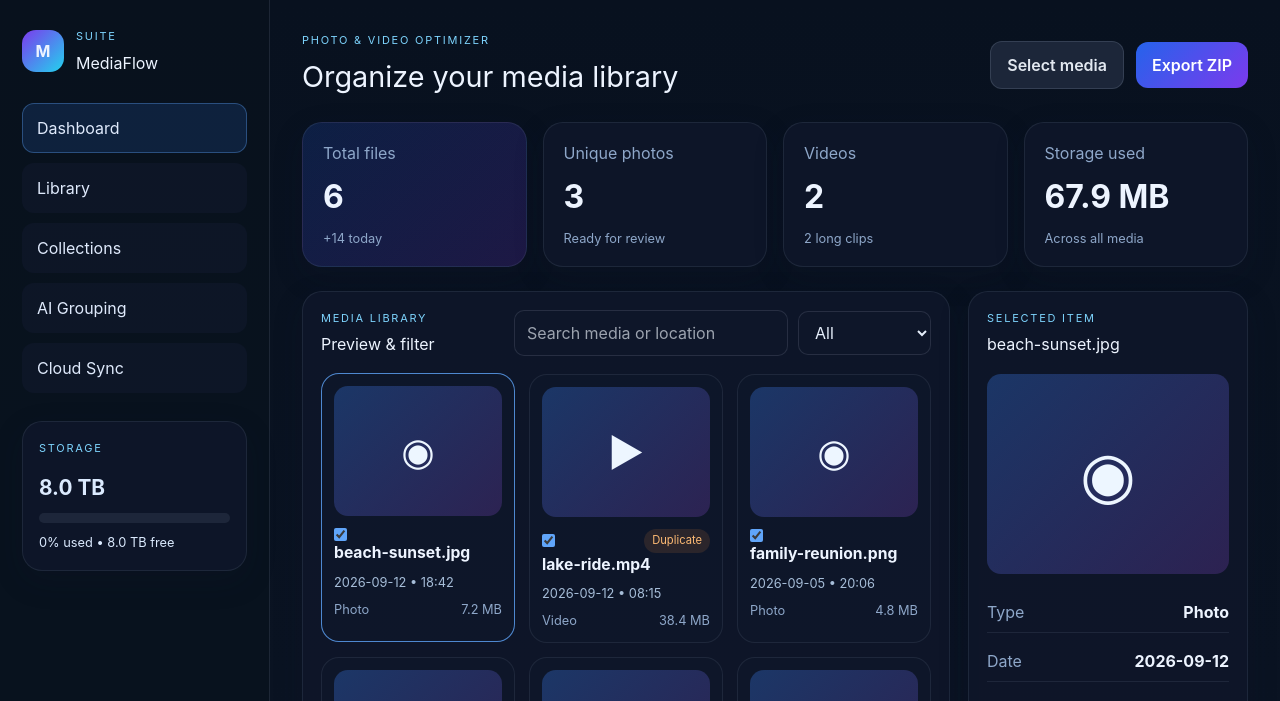
it: App › filters media through the gallery search
The image size is (1280, 701).
Type "Tokyo" into the field with placeholder "Search media or location". click: (651, 333)
box: [514, 310, 788, 356]
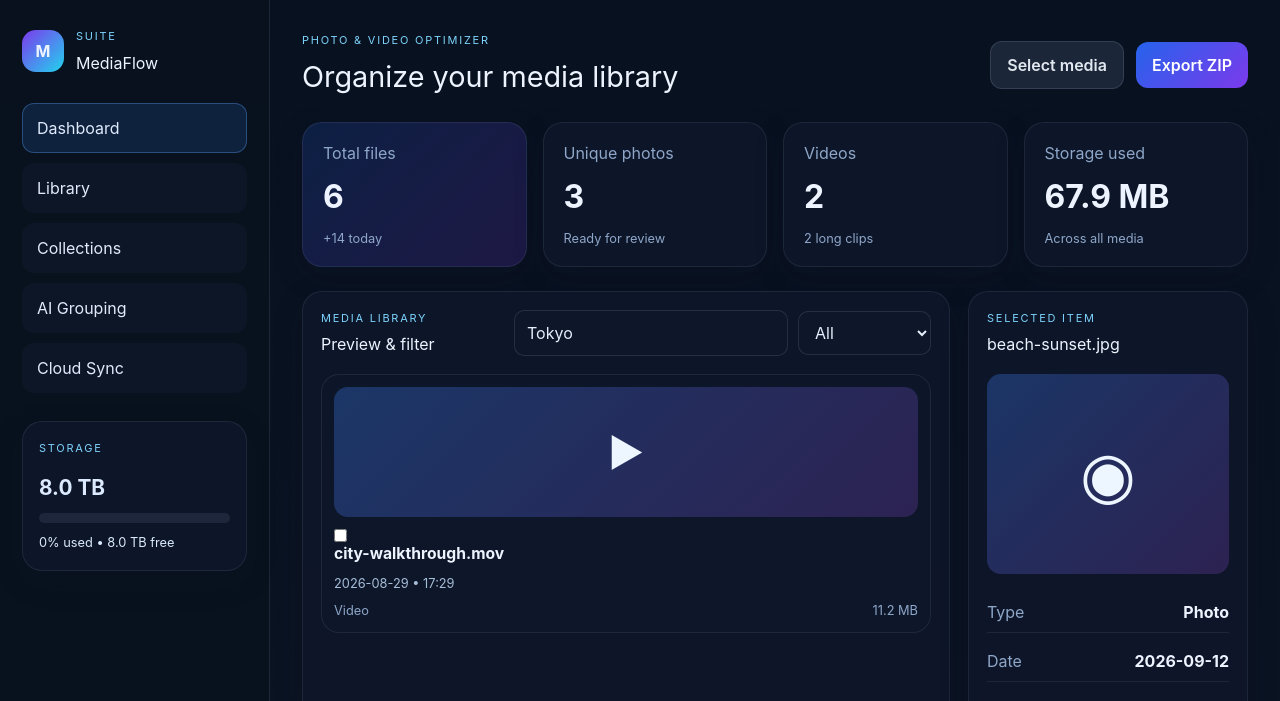
Check: the element with class "media-grid" shows "city-walkthrough.mov", box [334, 544, 504, 563]
Check: the element with class "media-grid" no longer shows "beach-sunset.jpg"
